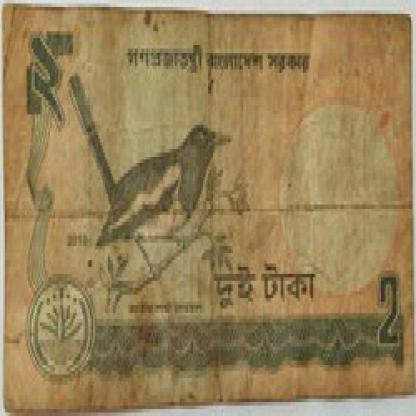two taka: (29, 28, 68, 146), (371, 263, 409, 382)
